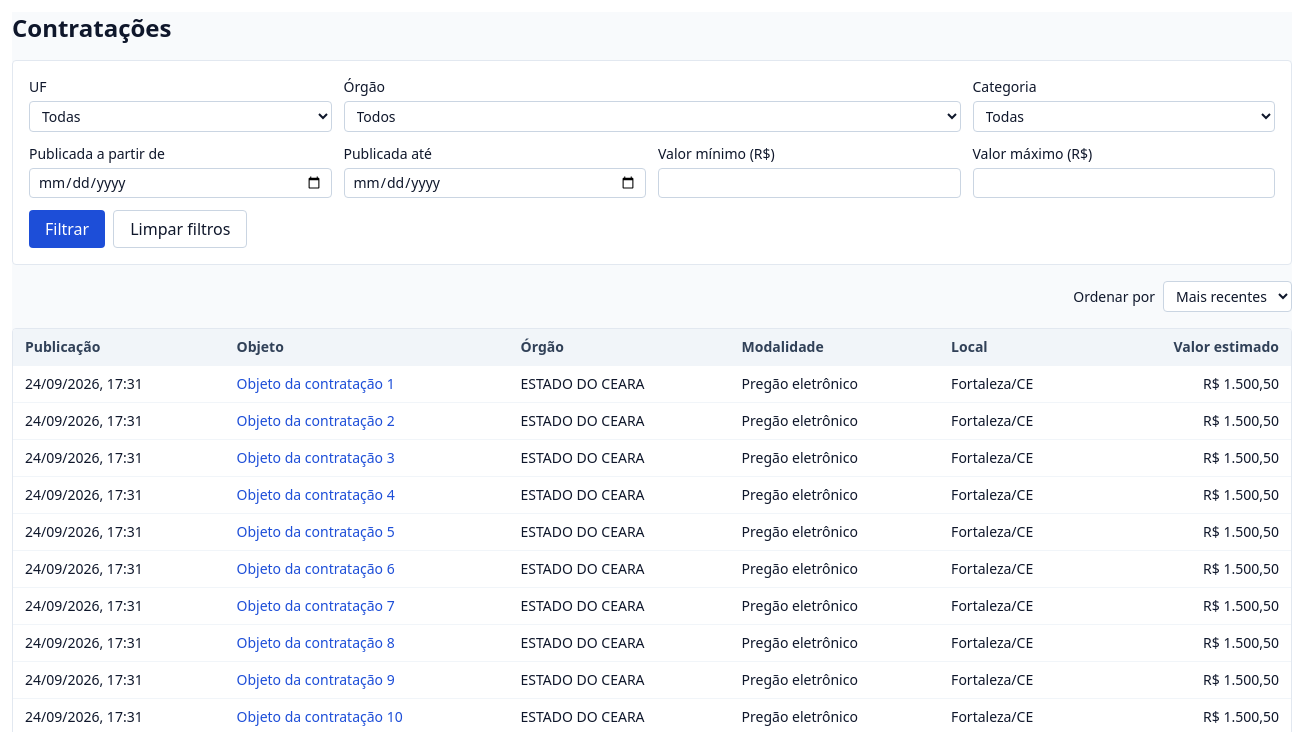
Test: ContratacoesView — filtros alteram a requisição › valores invertidos: avisa e não consulta a API
The width and height of the screenshot is (1304, 732).
In the number field labelled "Valor mínimo (R$)": (809, 183) [658, 168, 960, 198], type "500"
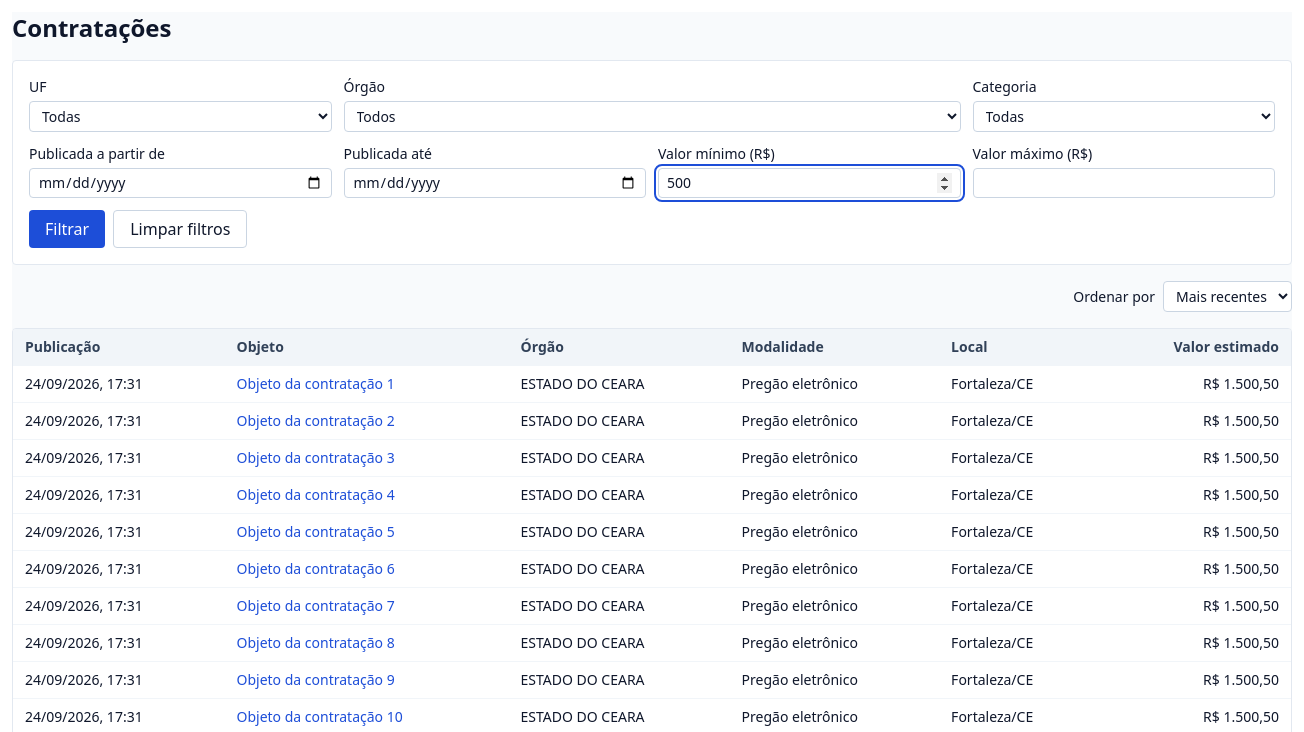
In the number field labelled "Valor máximo (R$)": (1124, 183) [972, 168, 1275, 198], type "100"
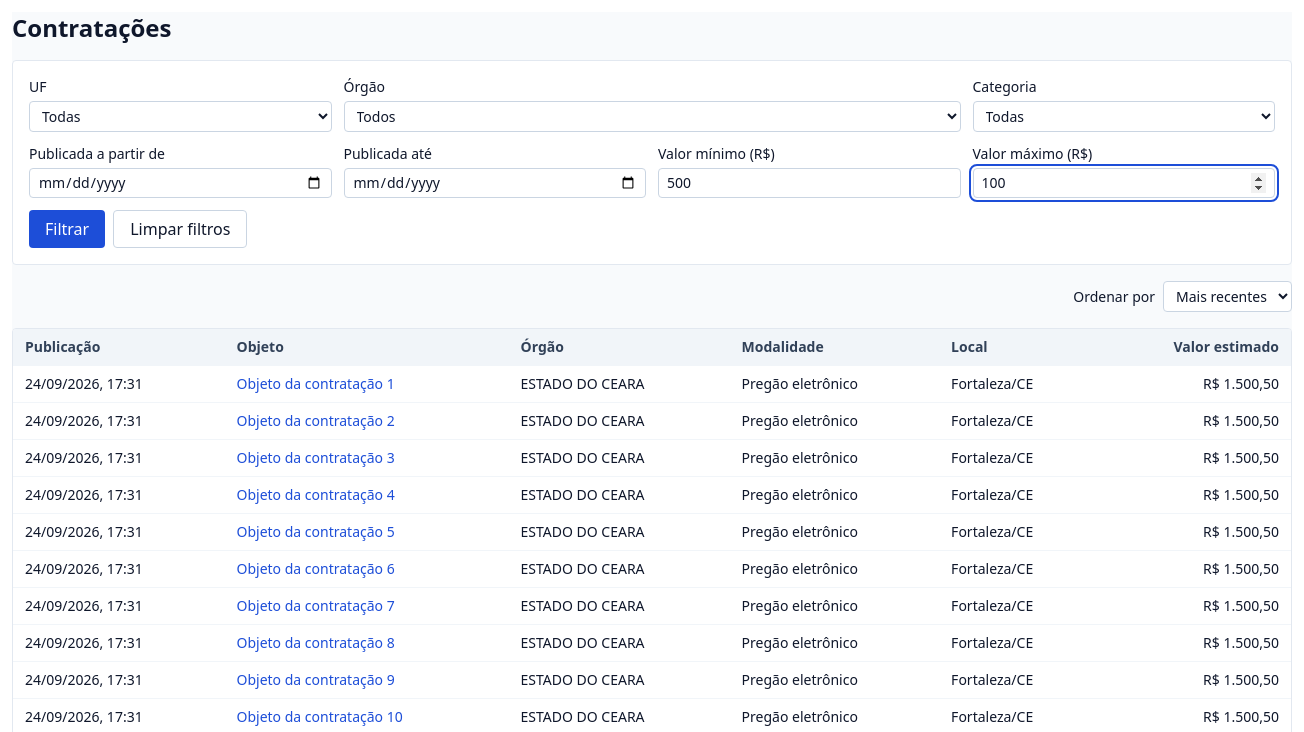
Click the button "Filtrar": (67, 229) [29, 210, 105, 248]
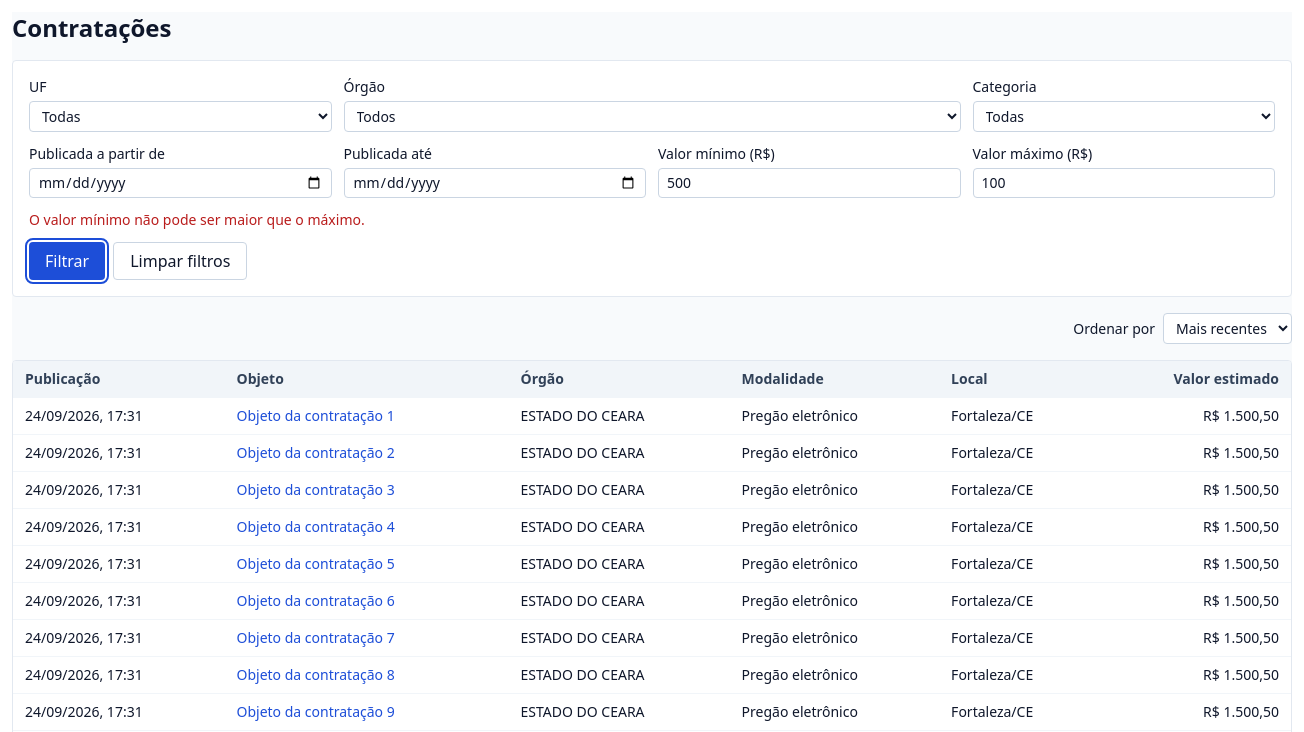
Now the message shows "O valor mínimo não pode ser maior", box [29, 210, 365, 229]
